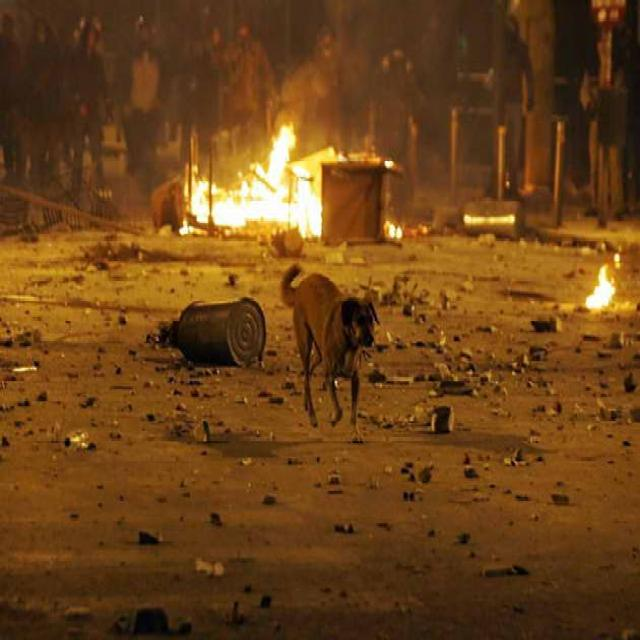dog: (282, 243, 384, 428)
